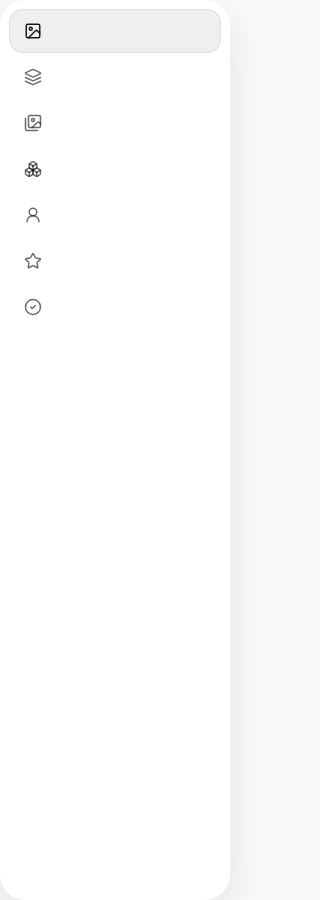
Test: StudioLibraryIsland › tooltip só enquanto o rótulo está escondido
Step 1. Hover over the navigation bar with class "studio-library-island" → [115, 450], box 0,0 -> 230,899
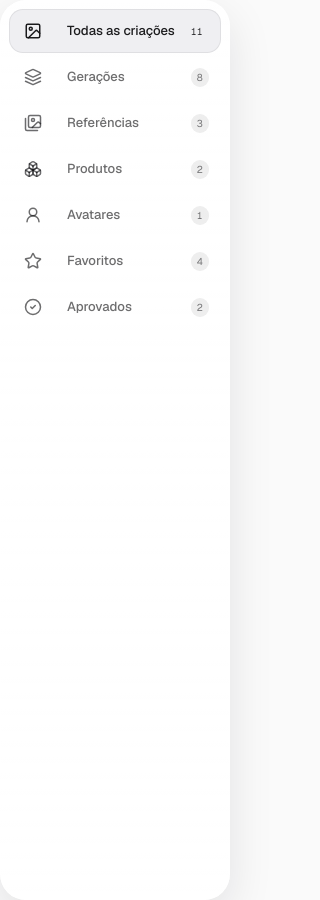
Expected: the button "Todas as criações 11" does not have attribute title, 9,9 -> 221,53
